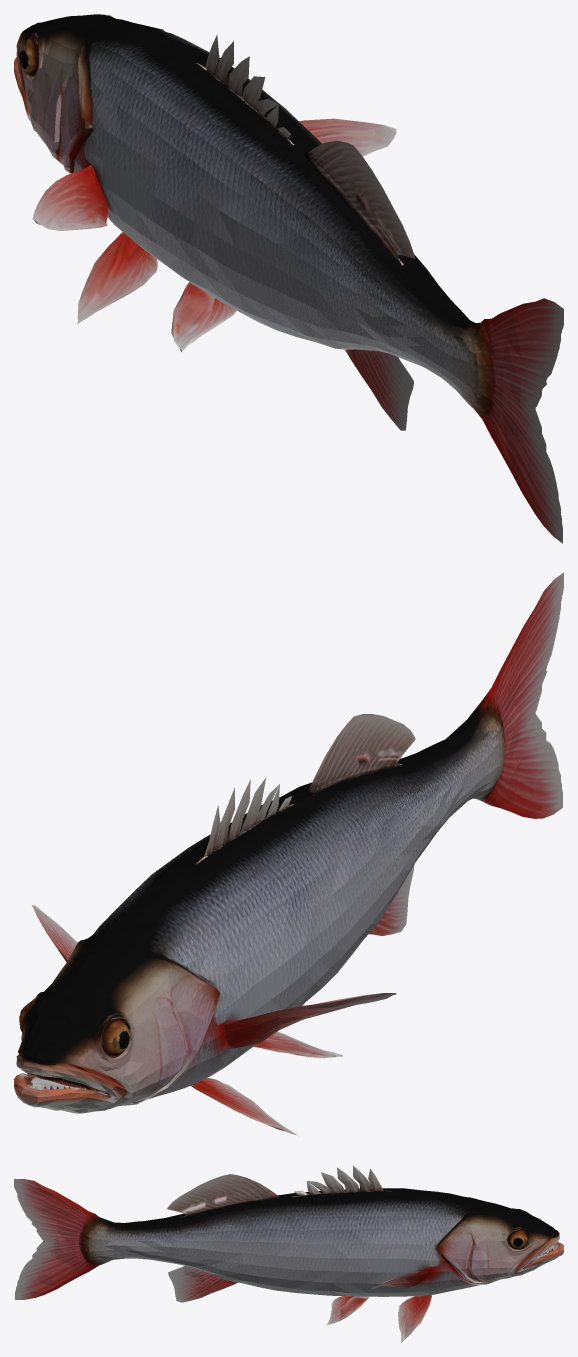
File: seabass+3d+model.glb
3 renders of one model, top to bottom at view 1: azimuth 30°, elevation 25°; view 2: azimuth 150°, elevation 25°; view 3: azimuth 270°, elevation 25°, orthographic. The views are drawn at different scales.
Visible parts, largest first — view 1: tripo_node_52742928-64b7-447e-9df2-8bc989a0dde9; view 2: tripo_node_52742928-64b7-447e-9df2-8bc989a0dde9; view 3: tripo_node_52742928-64b7-447e-9df2-8bc989a0dde9.
Boxes of the visible parts, x1,y1,x2,y2 form: tripo_node_52742928-64b7-447e-9df2-8bc989a0dde9: [14, 14, 563, 543]; tripo_node_52742928-64b7-447e-9df2-8bc989a0dde9: [14, 572, 563, 1135]; tripo_node_52742928-64b7-447e-9df2-8bc989a0dde9: [14, 1165, 563, 1342].
Bounding box in the file's own units: 0.3926 × 0.2988 × 0.998.
1 material, 1 textured.
